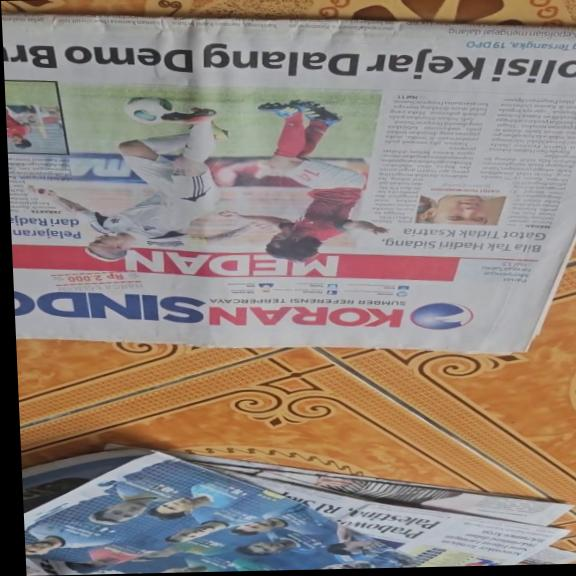Kertas: (9, 4, 576, 356), (355, 83, 576, 257)
